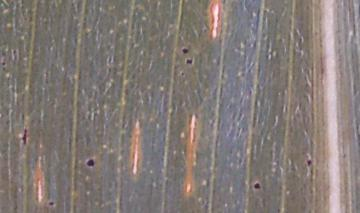tarspot: (20, 127, 29, 145), (85, 158, 95, 168), (180, 47, 190, 56), (252, 181, 261, 190), (185, 57, 194, 66), (306, 157, 313, 168), (47, 200, 56, 207), (179, 69, 186, 78), (1, 65, 6, 73), (1, 61, 7, 66), (11, 48, 17, 53)
